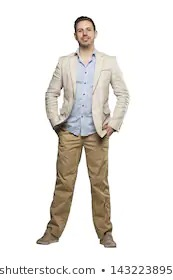F_M_suit jacket: (41, 44, 133, 143)
